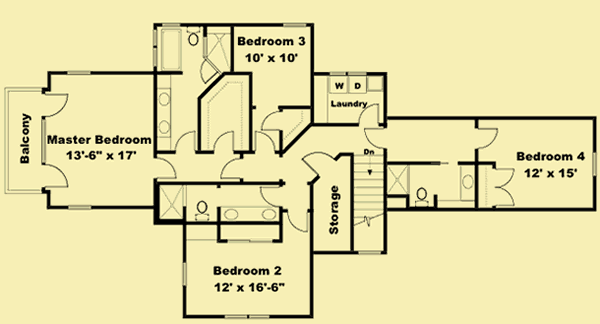door: (490, 167, 520, 207), (300, 149, 335, 179), (43, 160, 73, 191), (151, 154, 180, 181), (195, 57, 222, 85), (42, 91, 71, 116), (212, 130, 239, 155), (362, 125, 388, 149), (288, 208, 311, 235), (477, 126, 501, 151), (218, 156, 244, 179), (259, 110, 282, 133), (254, 129, 276, 153), (356, 101, 380, 123), (172, 129, 195, 151), (259, 185, 282, 205)
large_sink: (156, 85, 175, 141), (411, 182, 433, 207), (191, 197, 212, 223)
small_sink: (218, 204, 278, 223), (457, 165, 476, 204)
stairs: (350, 147, 389, 254)
tub: (159, 26, 184, 72)
window: (223, 235, 273, 247), (220, 313, 272, 320), (281, 20, 310, 27)
